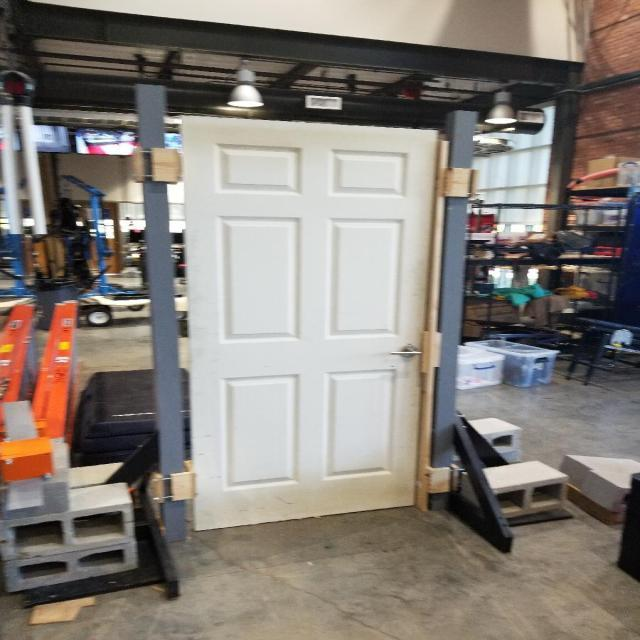door: (177, 110, 444, 535), (388, 343, 422, 360)
